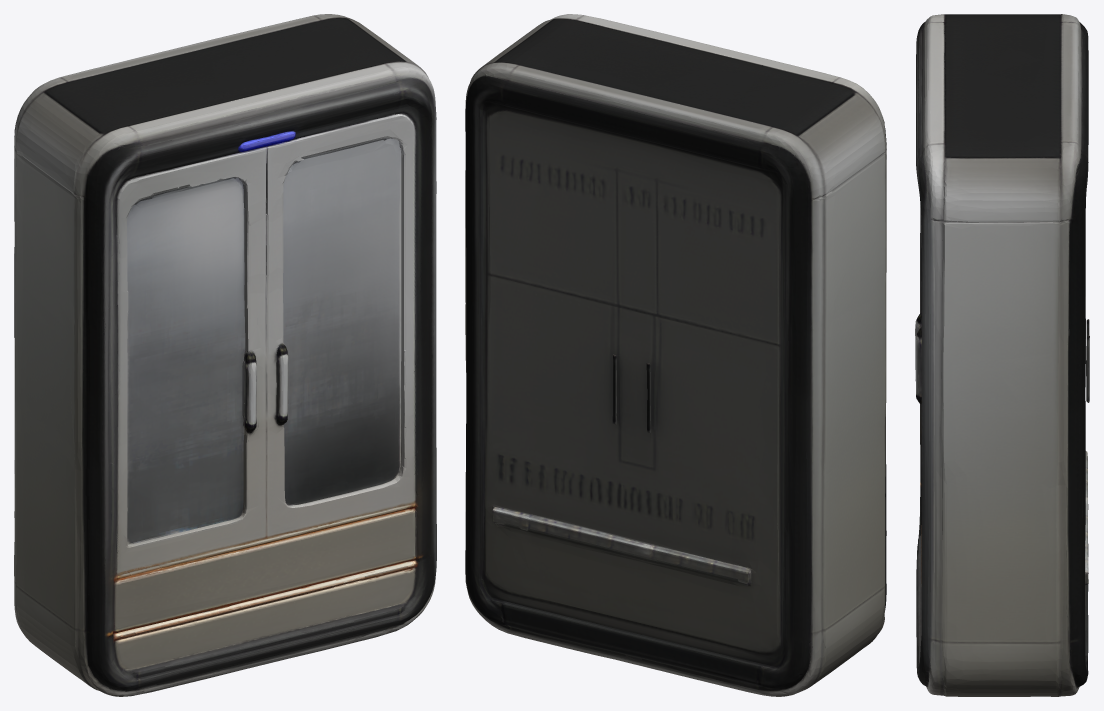
File: medical_cabinet.glb
3 views of the same model, side by side, from view 1: azimuth 30°, elevation 25°; view 2: azimuth 150°, elevation 25°; view 3: azimuth 270°, elevation 25° (orthographic). The views are drawn at different scales.
Visible parts, largest first — view 1: world; view 2: world; view 3: world.
Part boxes in pixels (<box>): world: <box>14,14,436,696</box>; world: <box>465,14,886,696</box>; world: <box>915,14,1089,696</box>.
Bounding box in the file's own units: 0.6689 × 1 × 0.29.
Materials: 1 (1 with a texture image).
